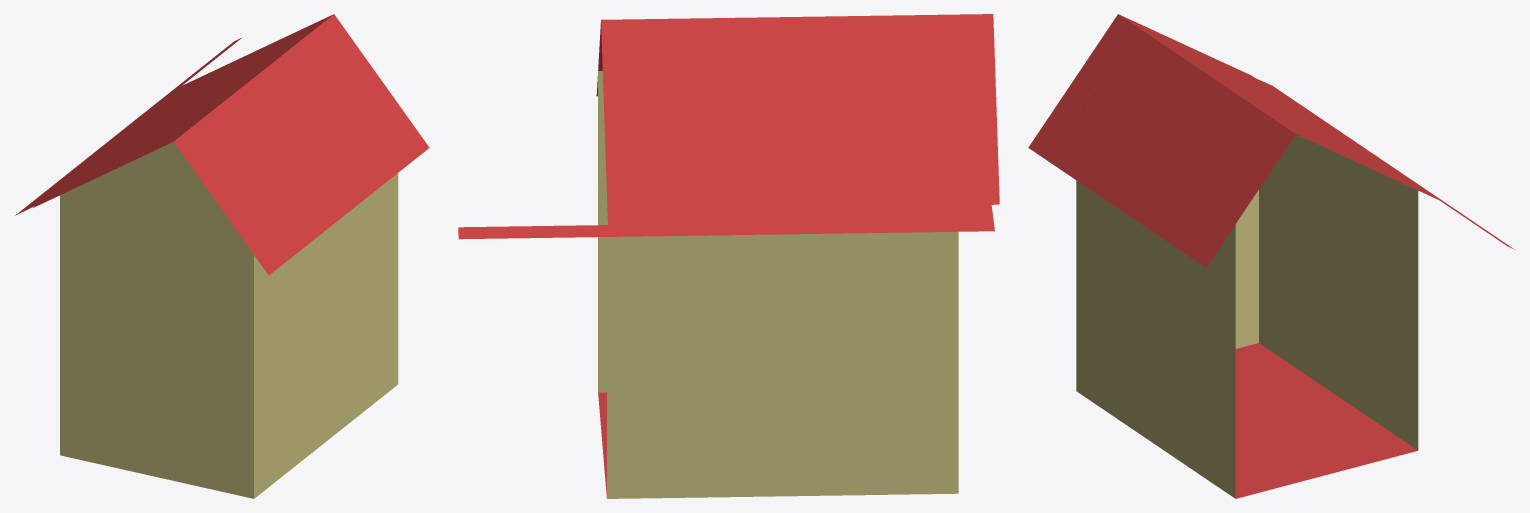
The picture shows the model from 3 angles, left to right: view 1: azimuth 30°, elevation 25°; view 2: azimuth 150°, elevation 25°; view 3: azimuth 270°, elevation 25°; orthographic projection. The views are drawn at different scales.
Size of the model in its own units: 12.38 by 13.98 by 11.04.
